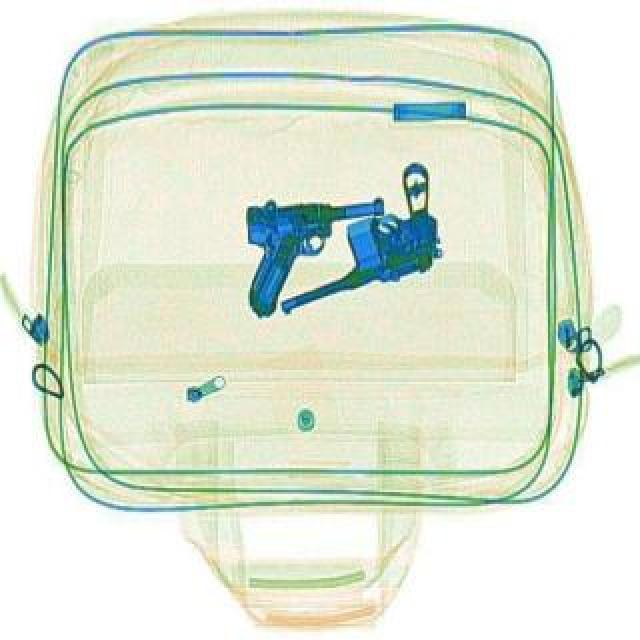gun: (244, 160, 464, 324), (240, 192, 388, 318)
